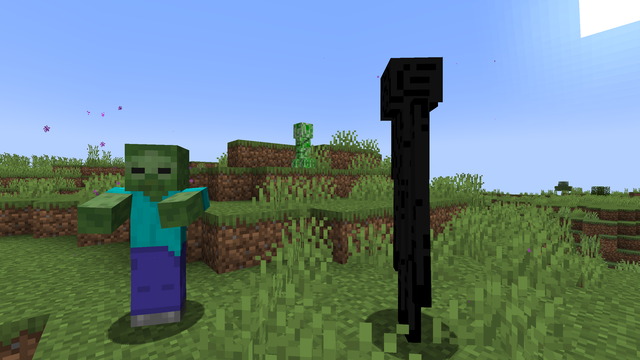creepers: (291, 119, 314, 158)
endermens: (368, 38, 449, 357)
zombies: (126, 147, 194, 341)
